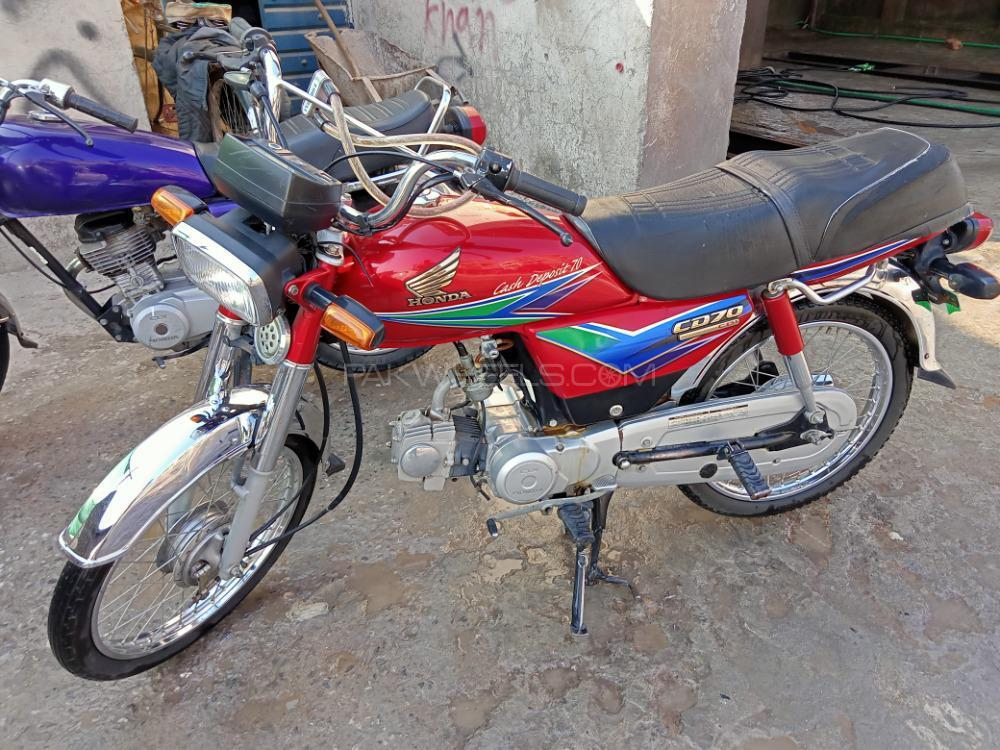bike: (38, 57, 998, 679), (1, 43, 503, 397)
